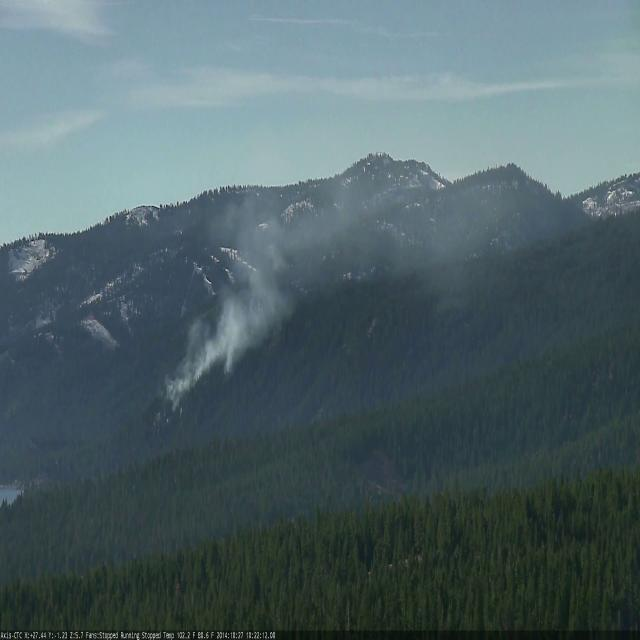smoke: (144, 109, 491, 442)
